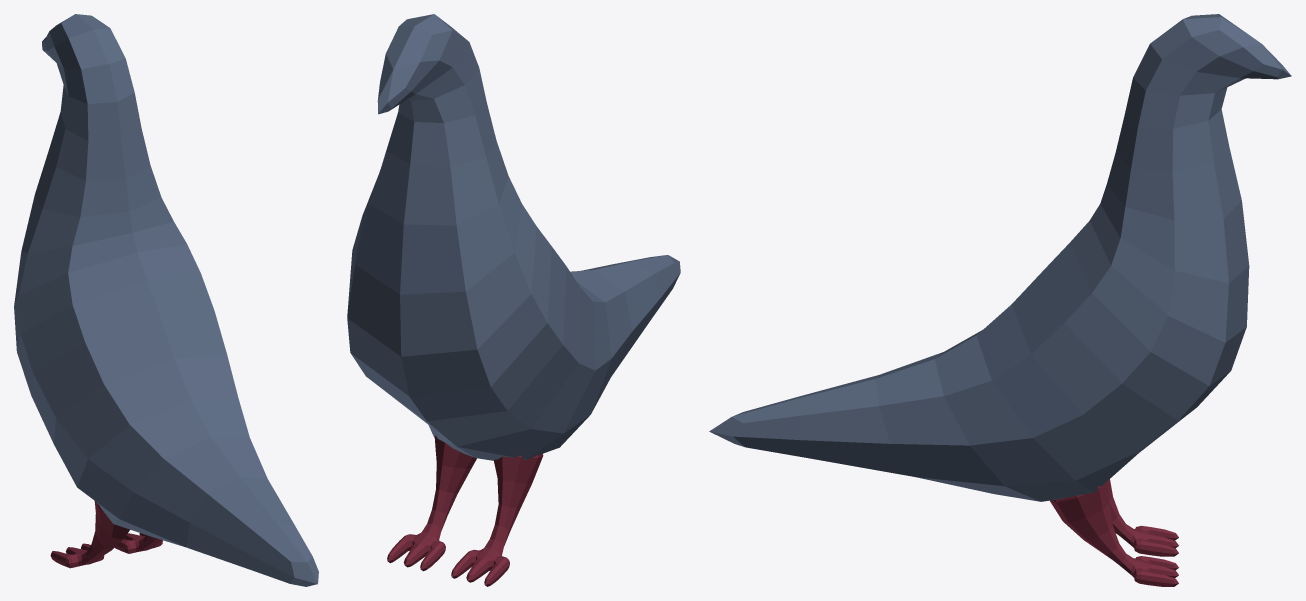
The model's file is SM_Pigeon.fbx.
The picture shows the model from 3 angles, left to right: view 1: azimuth 30°, elevation 25°; view 2: azimuth 150°, elevation 25°; view 3: azimuth 270°, elevation 25°; orthographic projection. The views are drawn at different scales.
Parts seen in each view (by area): view 1: SM_Pigeon_Legs; view 2: SM_Pigeon_Legs; view 3: SM_Pigeon_Legs.
Part boxes in pixels (bbox=[...]): SM_Pigeon_Legs: bbox=[14, 14, 318, 586]; SM_Pigeon_Legs: bbox=[347, 14, 680, 586]; SM_Pigeon_Legs: bbox=[709, 14, 1291, 586].
Size of the model in its own units: 132 by 366 by 354.
